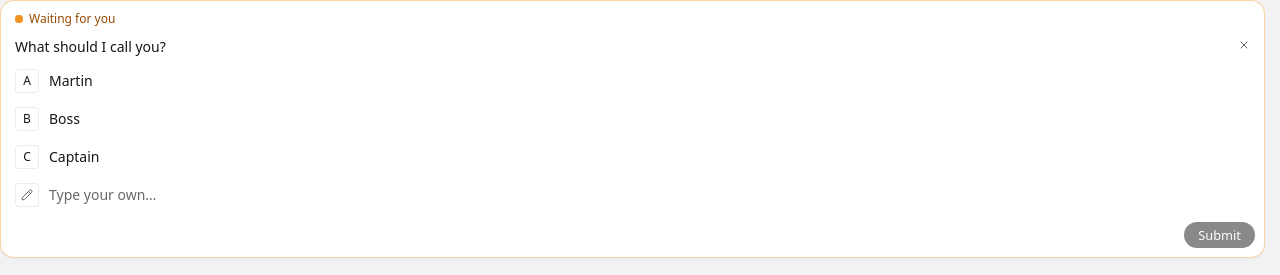
Test: single-choice prompts › clear the selection when the selected option is clicked again
The width and height of the screenshot is (1280, 275).
Expected: the button "Submit" is shown, x1=1183 y1=221 x2=1256 y2=249
Click the button "A Martin". click: (71, 80)
box: x1=9 y1=63 x2=1256 y2=99
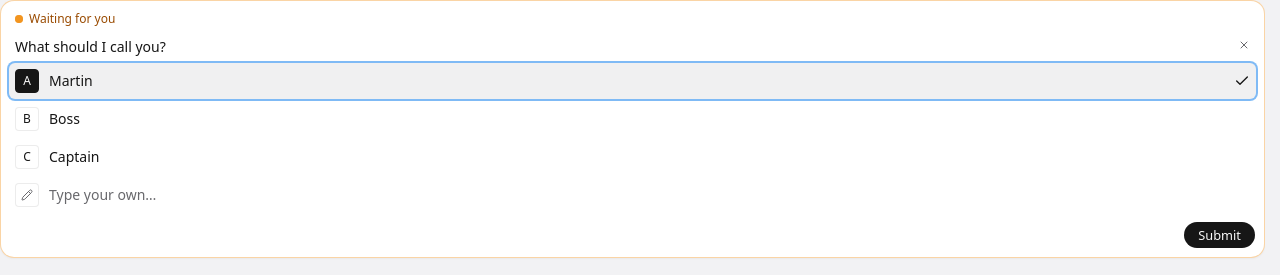
Click the button "A Martin". click: (71, 80)
box: x1=9 y1=63 x2=1256 y2=99
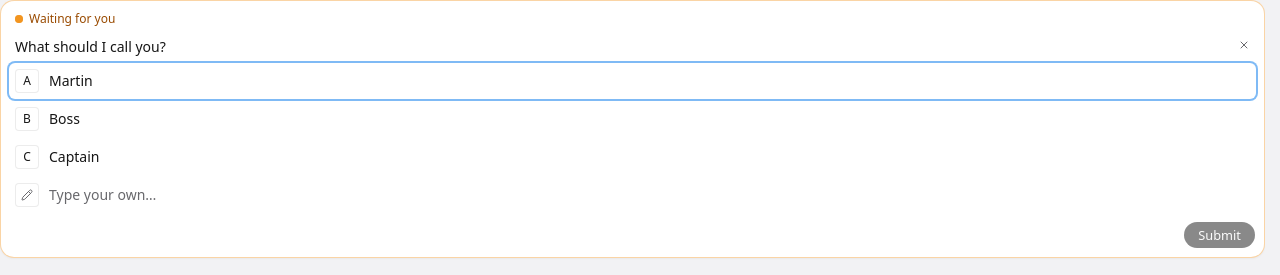
Result: the button "Submit" is disabled at x1=1183 y1=221 x2=1256 y2=249
